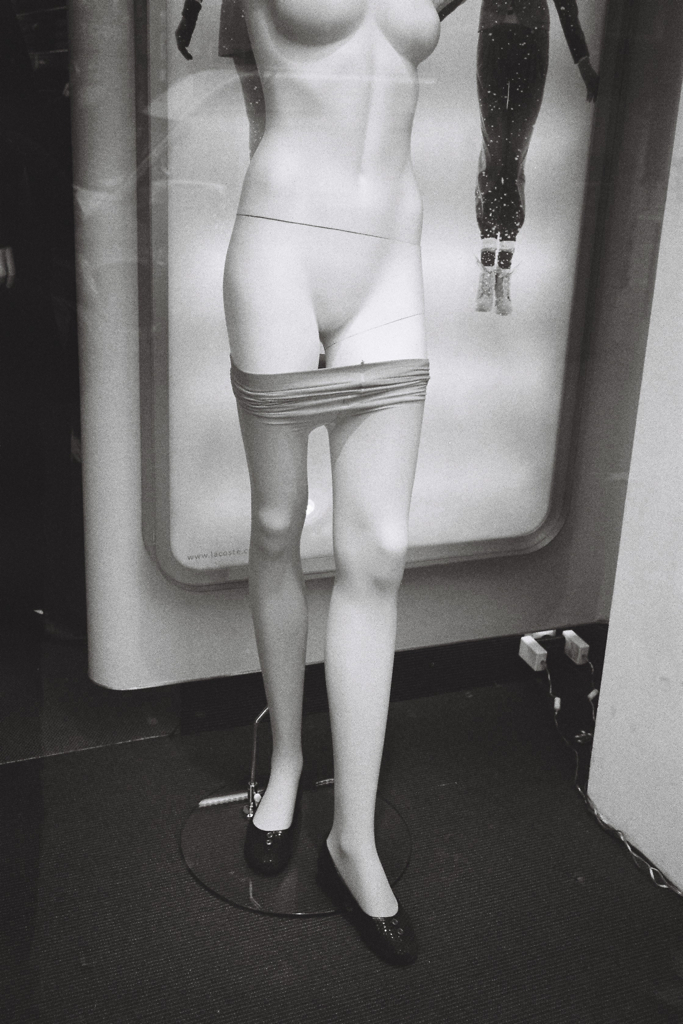person: (459, 0, 600, 318)
